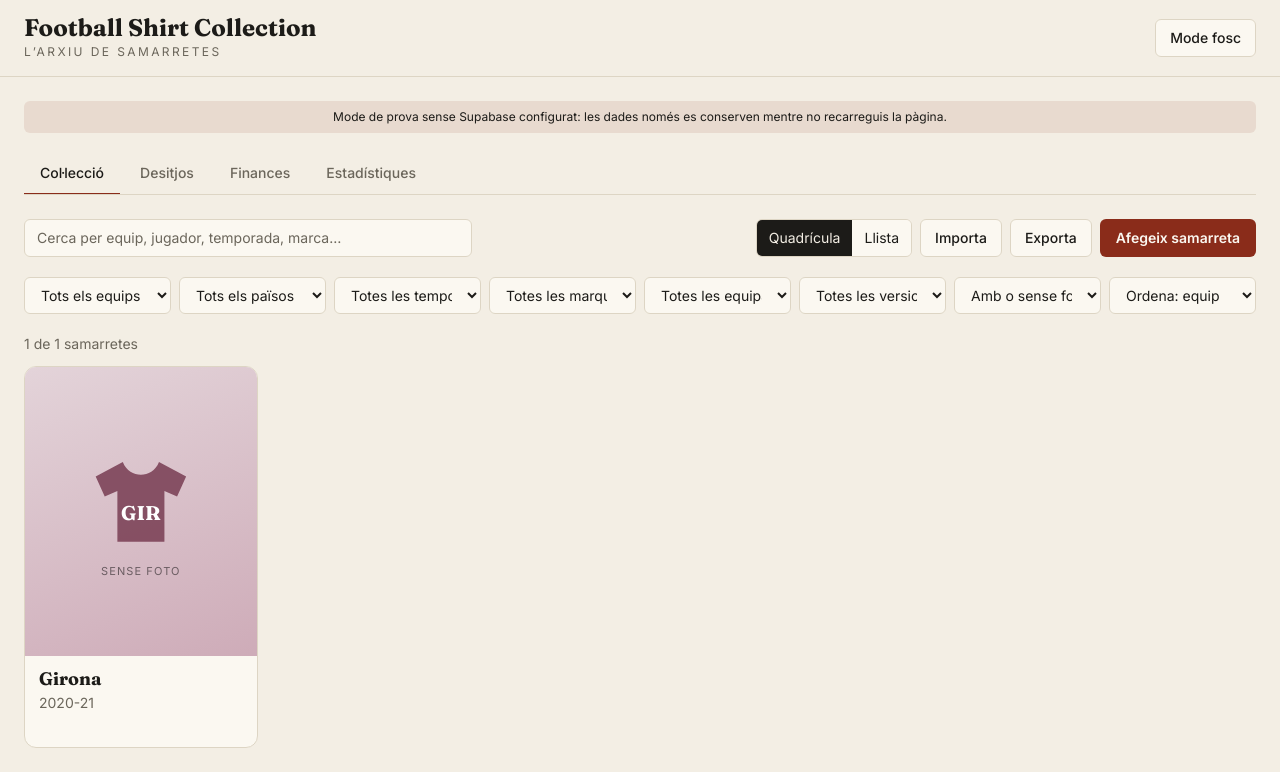
Scenario: cerca d’imatges desactivada (per defecte a producció) › amaga la cerca, les candidates i l’enllaç, però deixa pujar fotos pròpies
Expected: the button "Afegeix samarreta" is shown, [1100, 219, 1256, 257]
Click the button "GIR Sense foto Girona 2020-21": click(141, 557) [24, 366, 258, 748]
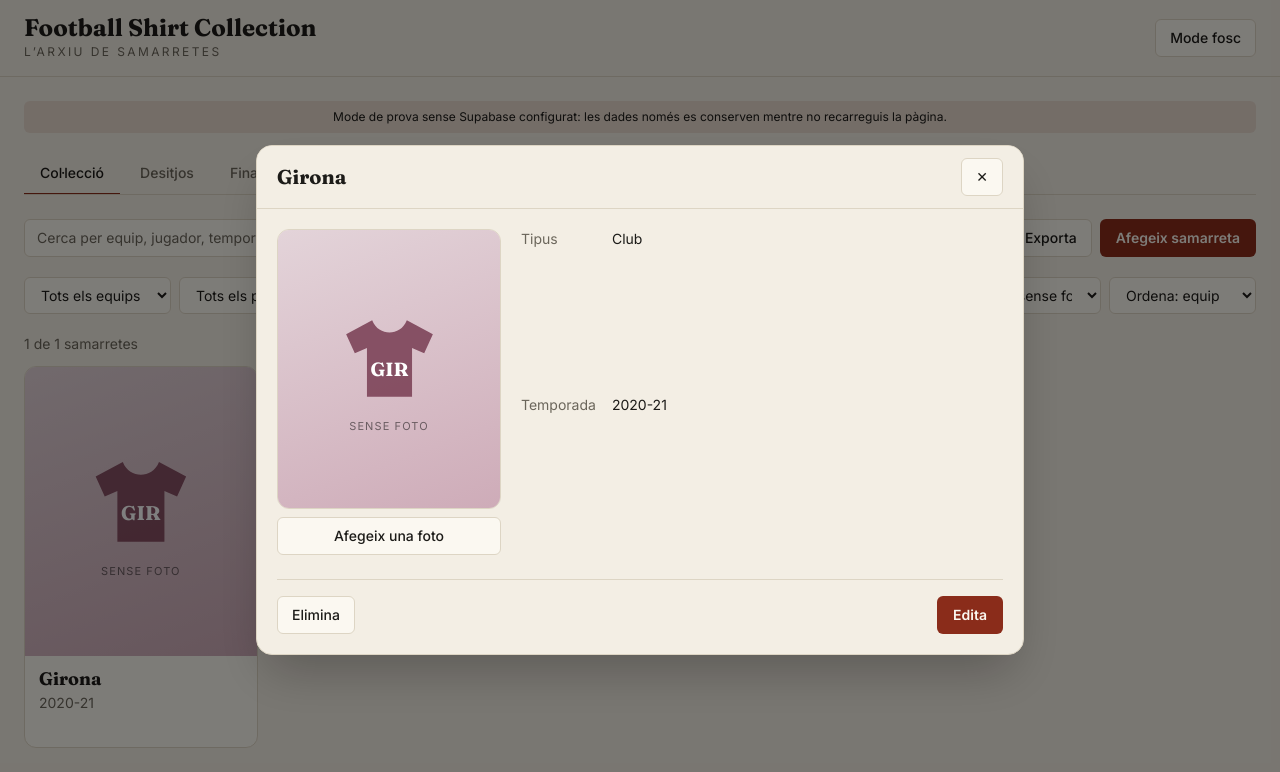
Click the button "Afegeix una foto": click(389, 536) [277, 517, 501, 555]
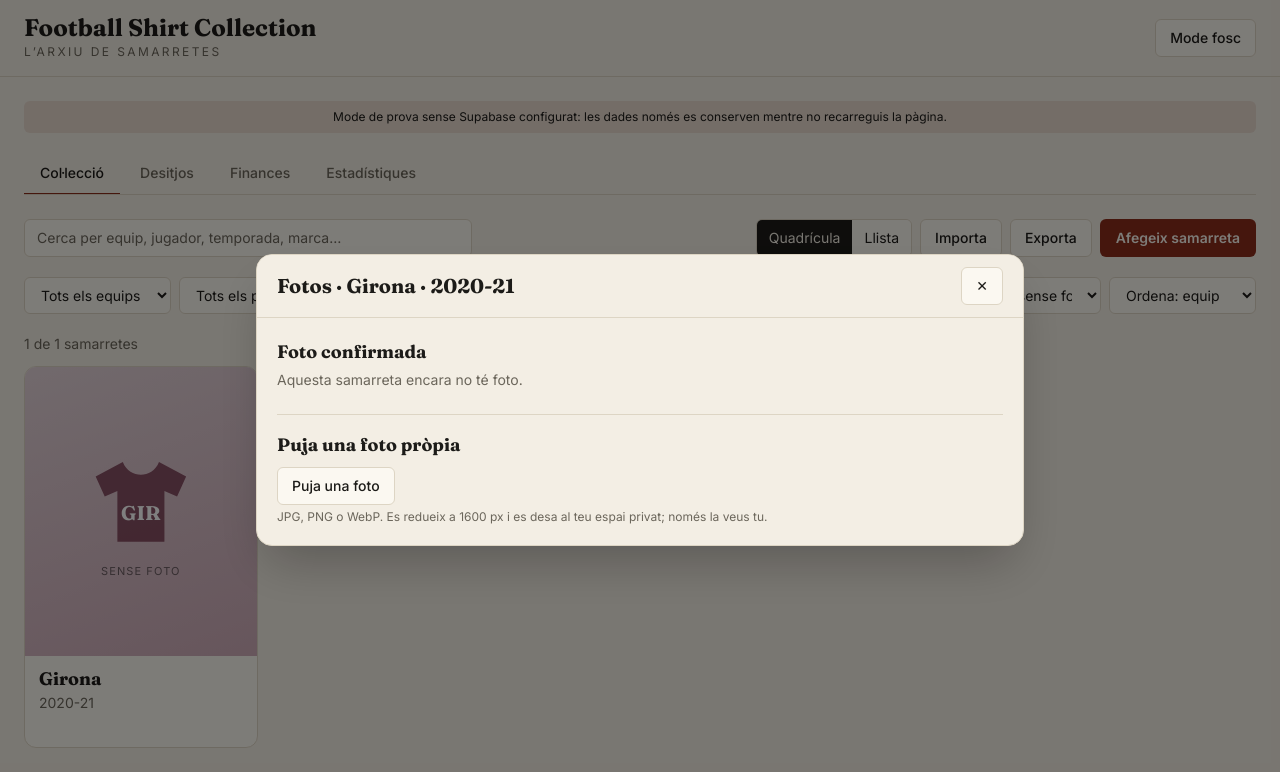
Expected: the file field labelled "Puja una foto" is shown, [277, 467, 395, 505]
